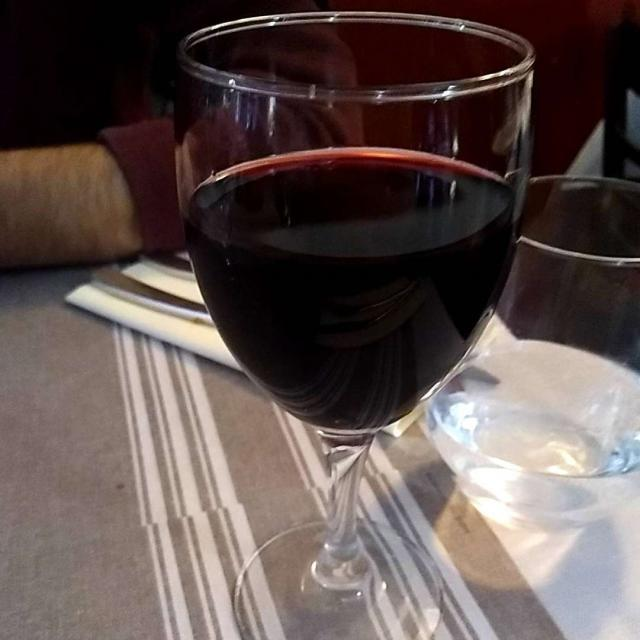wine: (190, 118, 520, 435)
